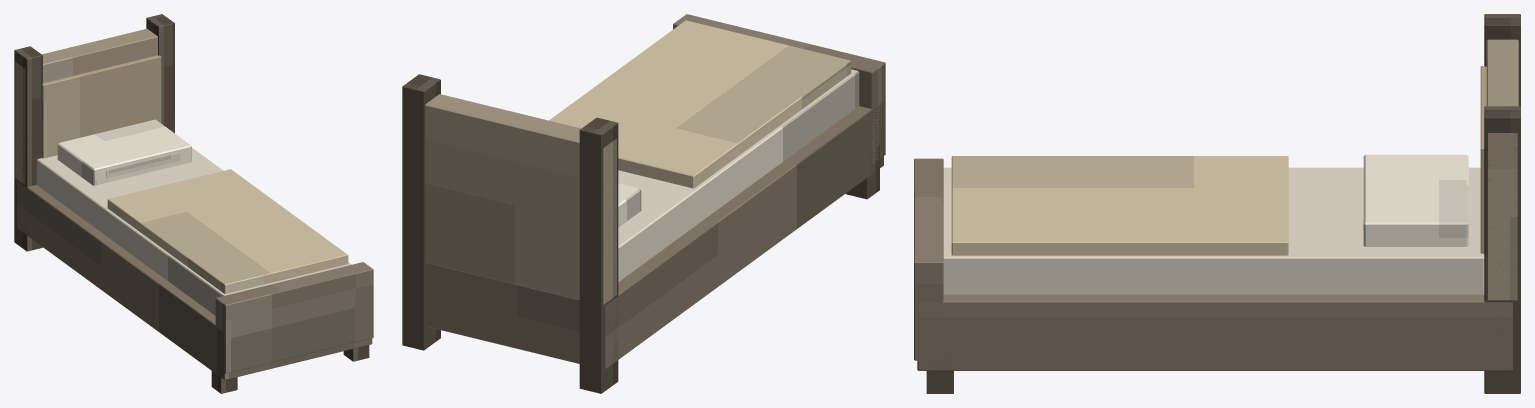
Rendered from single_bed_ivory.glb.
The picture shows the model from 3 angles, left to right: view 1: azimuth 30°, elevation 25°; view 2: azimuth 150°, elevation 25°; view 3: azimuth 270°, elevation 25°; orthographic projection. The views are drawn at different scales.
Visible parts, largest first — view 1: Blanket, BedFrame, Footboard, Mattress, HeadboardInset, Pillow_1, HeadboardPanel, HeadPostL, HeadPostR, PillowBand_1, FootL, FootR; view 2: BedFrame, HeadboardPanel, Blanket, Mattress, HeadPostL, HeadPostR, Footboard, Pillow_1, FootL; view 3: BedFrame, Blanket, Mattress, Pillow_1, HeadboardPanel, Footboard, HeadPostR, HeadPostL, HeadboardInset, FootR.
Part boxes in pixels (x1,y1,x2,y2): Blanket: [107, 169, 348, 293]; BedFrame: [17, 181, 372, 379]; Footboard: [215, 262, 373, 373]; Mattress: [37, 148, 351, 315]; HeadboardInset: [42, 55, 161, 158]; Pillow_1: [57, 119, 191, 185]; HeadboardPanel: [15, 29, 157, 185]; HeadPostL: [14, 46, 42, 251]; HeadPostR: [146, 14, 174, 133]; PillowBand_1: [106, 152, 180, 178]; FootL: [211, 362, 237, 393]; FootR: [343, 345, 369, 361]; BedFrame: [427, 102, 883, 368]; HeadboardPanel: [425, 94, 616, 304]; Blanket: [549, 20, 851, 188]; Mattress: [618, 69, 859, 281]; HeadPostL: [579, 117, 618, 393]; HeadPostR: [402, 74, 440, 350]; Footboard: [673, 14, 885, 163]; Pillow_1: [618, 183, 641, 227]; FootL: [845, 145, 879, 199]; BedFrame: [917, 294, 1512, 370]; Blanket: [951, 156, 1288, 255]; Mattress: [943, 167, 1484, 294]; Pillow_1: [1363, 154, 1468, 246]; HeadboardPanel: [1486, 39, 1518, 300]; Footboard: [914, 158, 943, 360]; HeadPostR: [1484, 106, 1520, 393]; HeadPostL: [1484, 14, 1520, 106]; HeadboardInset: [1480, 66, 1486, 254]; FootR: [926, 362, 953, 393].
Size of the model in its own units: 1.08 by 1.34 by 2.66.
Materials: 1 (1 with a texture image).
